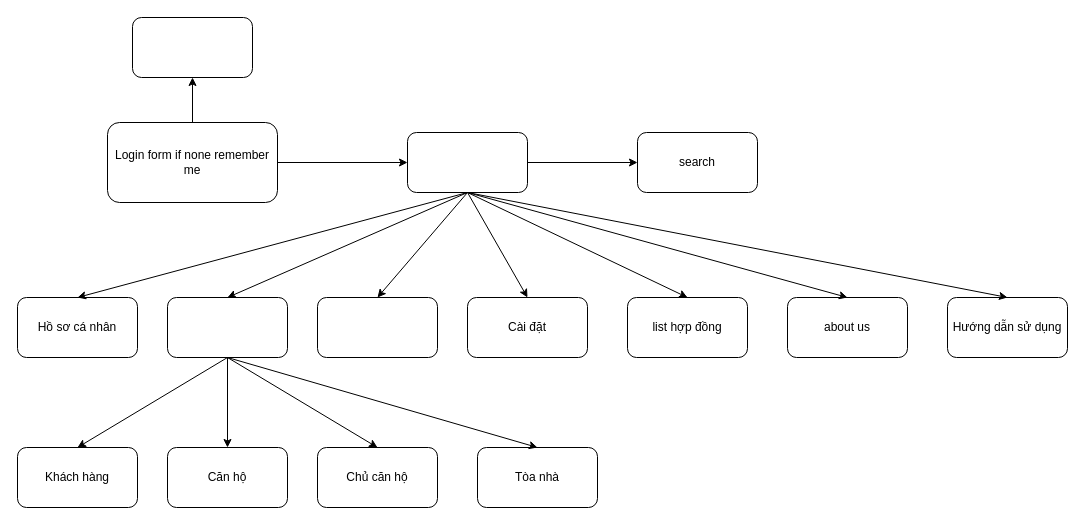
The diagram is 1085 pixels wide and 525 high, and some of its shapes have lost their labels. The centre of each missing label's shape, as x and y in pixels:
home menu: the point at 467,162
Mục quản lí: the point at 227,327
đăng kí: the point at 192,47
